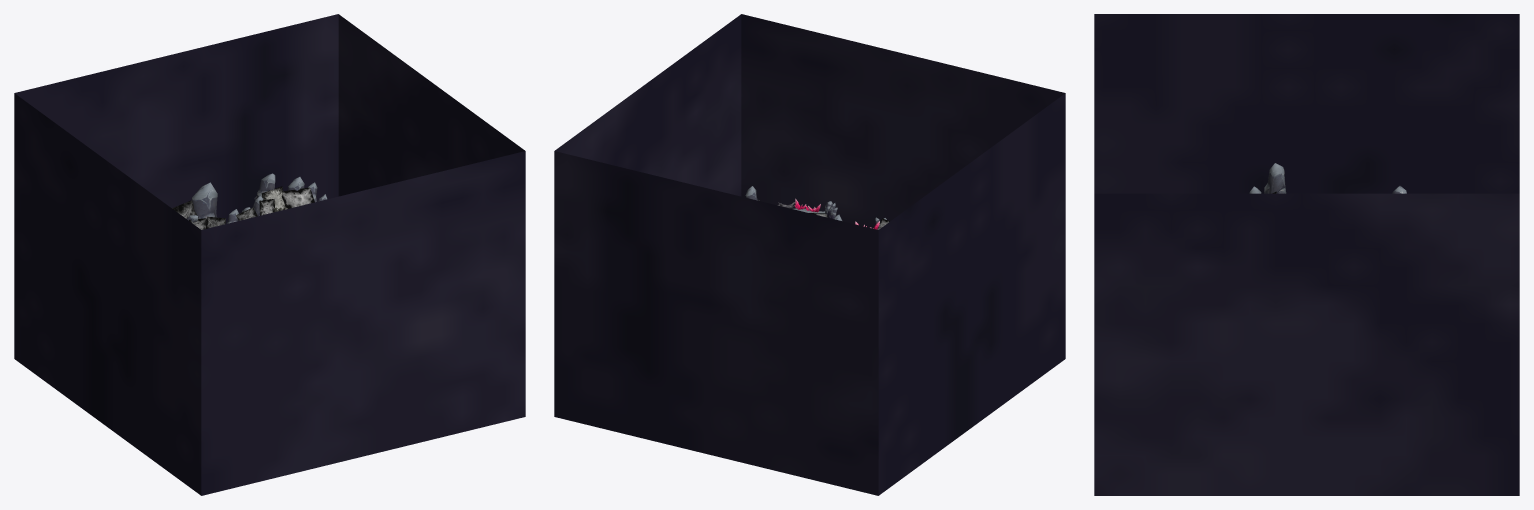
File: Scene_zhizhudongku.fbx
The picture shows the model from 3 angles, left to right: view 1: azimuth 30°, elevation 25°; view 2: azimuth 150°, elevation 25°; view 3: azimuth 270°, elevation 25°; orthographic projection. The views are drawn at different scales.
Visible parts, largest first — view 1: Scene_zhizhudongku_a1, Scene_zhizhudongku_b1; view 2: Scene_zhizhudongku_a1; view 3: Scene_zhizhudongku_a1.
Boxes of the visible parts, box(x1,y1,x2,y2) form: Scene_zhizhudongku_a1: box(14, 14, 525, 495); Scene_zhizhudongku_b1: box(172, 186, 314, 229); Scene_zhizhudongku_a1: box(554, 14, 1065, 495); Scene_zhizhudongku_a1: box(1094, 14, 1519, 495).
Bounding box in the file's own units: 5990 × 4695 × 5990.
